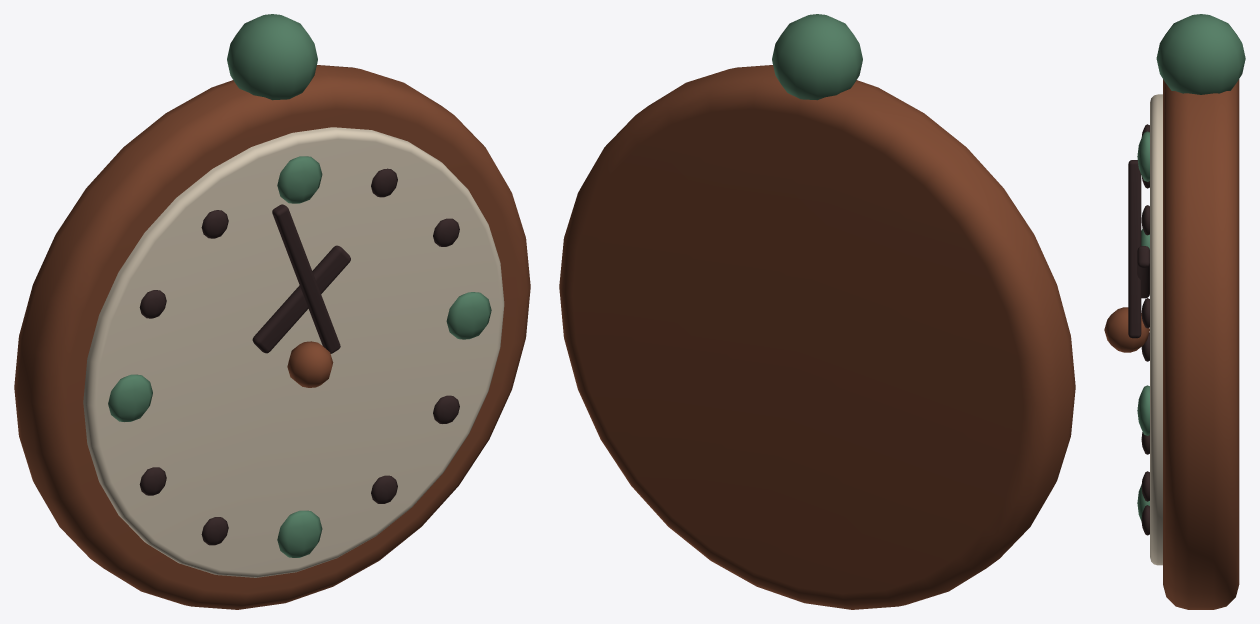
File: wall-clock.glb
The picture shows the model from 3 angles, left to right: view 1: azimuth 30°, elevation 25°; view 2: azimuth 150°, elevation 25°; view 3: azimuth 270°, elevation 25°; orthographic projection. The views are drawn at different scales.
Parts seen in each view (by area): view 1: wall-clock; view 2: wall-clock; view 3: wall-clock.
Part boxes in pixels (x1,y1,x2,y2): wall-clock: [14, 14, 530, 609]; wall-clock: [559, 14, 1075, 609]; wall-clock: [1104, 14, 1245, 609].
Bounding box in the file's own units: 0.44 × 0.49 × 0.111.
